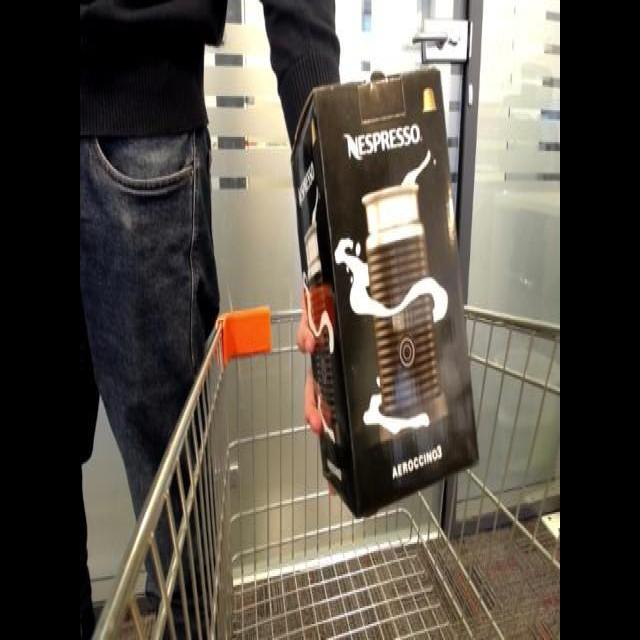Nespresso: (288, 44, 497, 521)
